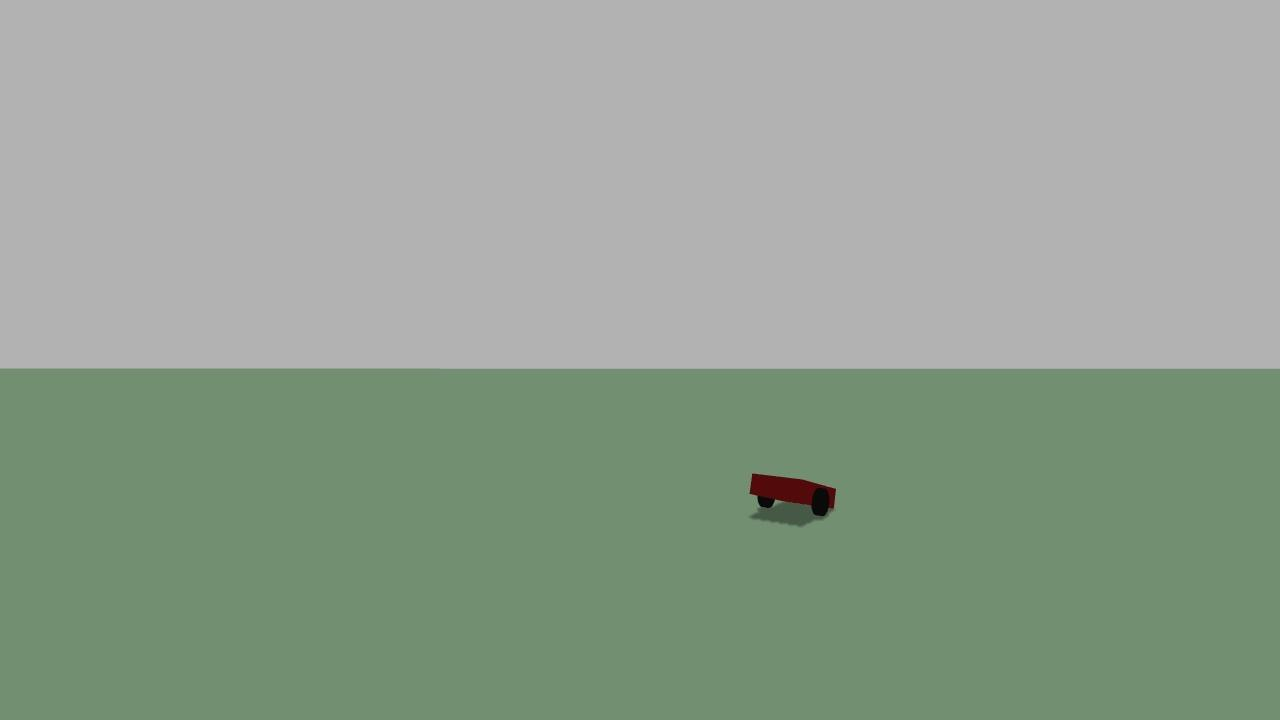ground_vehicle: (738, 459, 841, 534)
